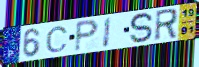6: (22, 27, 42, 59)
C: (45, 25, 69, 54)
I: (102, 16, 113, 49)
P: (73, 18, 101, 53)
R: (153, 7, 179, 43)
S: (129, 11, 154, 46)
